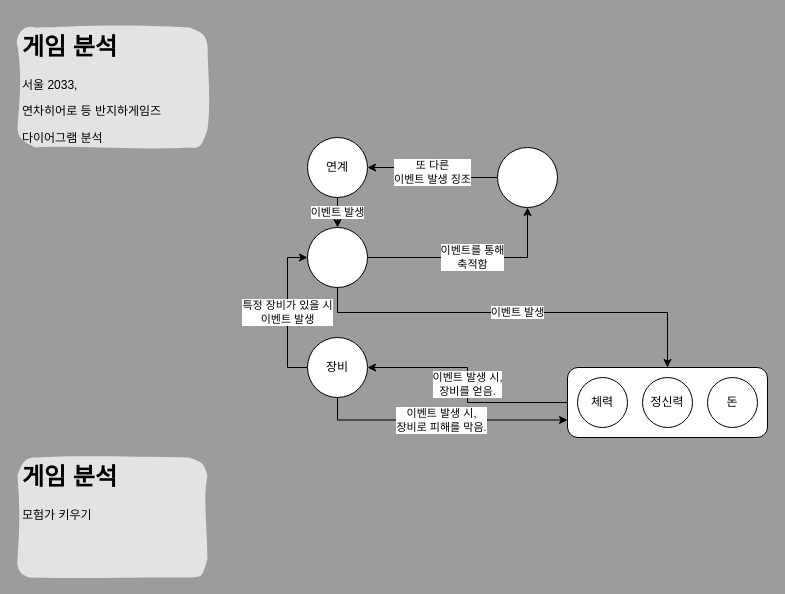
Image size: 785x594. Some labels were removed from this diagram. Here are the shapes that lost their labels. From the top down, the centre of each, then its label:
At [527,177]: "인연".
At [337,257]: "이벤트".
